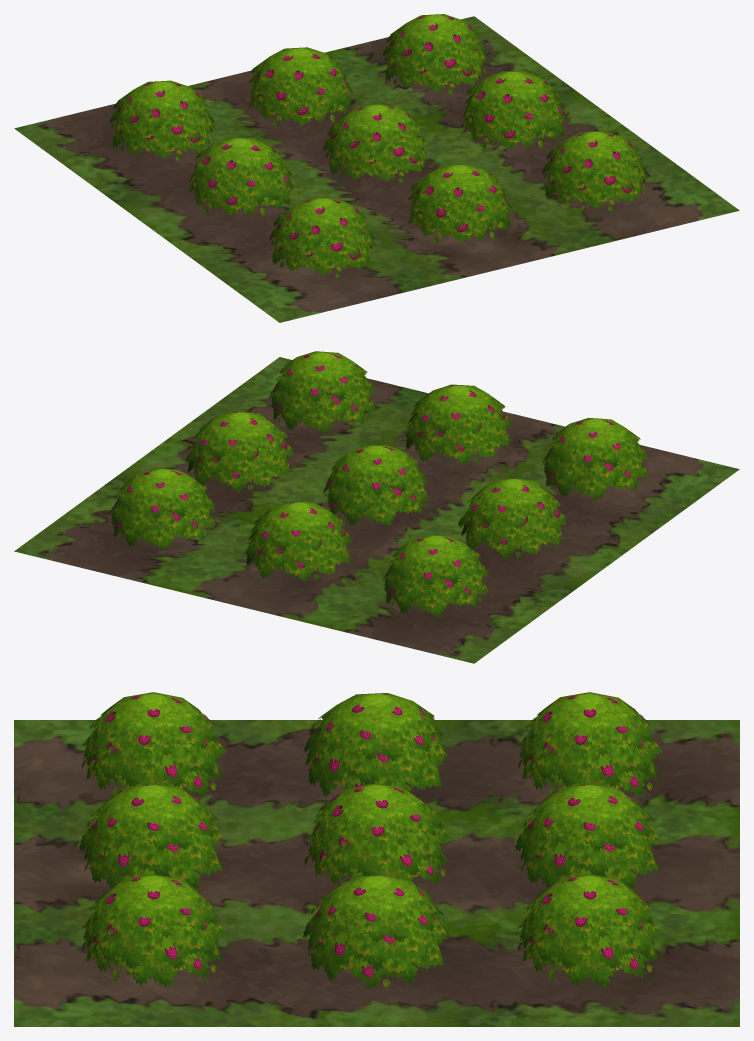
The model's file is rasp-berry-fields-painted.fbx.
3 renders of one model, top to bottom at view 1: azimuth 30°, elevation 25°; view 2: azimuth 150°, elevation 25°; view 3: azimuth 270°, elevation 25°, orthographic. The views are drawn at different scales.
Visible parts, largest first — view 1: ground_rasp_berryfields, BUSH_TREE1_4, BUSH_TREE1_4_3, BUSH_TREE1_4_9, BUSH_TREE1_4_7, BUSH_TREE1_4_5, BUSH_TREE1_4_4, BUSH_TREE1_4_2, BUSH_TREE1_4_6, BUSH_TREE1_4_8, BUSH_TREE1_2_6, BUSH_TREE1_2_4 (+16 smaller); view 2: ground_rasp_berryfields, BUSH_TREE1_4_5, BUSH_TREE1_4, BUSH_TREE1_4_3, BUSH_TREE1_4_7, BUSH_TREE1_4_9, BUSH_TREE1_4_2, BUSH_TREE1_4_8, BUSH_TREE1_4_4, BUSH_TREE1_4_6, BUSH_TREE1_2_5, BUSH_TREE1_2 (+16 smaller); view 3: ground_rasp_berryfields, BUSH_TREE1_4_6, BUSH_TREE1_4_4, BUSH_TREE1_4_2, BUSH_TREE1_4_8, BUSH_TREE1_4_9, BUSH_TREE1_4_3, BUSH_TREE1_4_7, BUSH_TREE1_4, BUSH_TREE1_4_5, BUSH_TREE1_2_5, BUSH_TREE1_2 (+16 smaller).
Part boxes in pixels (<box>): ground_rasp_berryfields: <box>14,16,739,322</box>; BUSH_TREE1_4: <box>546,131,643,179</box>; BUSH_TREE1_4_3: <box>273,197,370,246</box>; BUSH_TREE1_4_9: <box>113,80,210,129</box>; BUSH_TREE1_4_7: <box>386,14,483,62</box>; BUSH_TREE1_4_5: <box>327,103,425,152</box>; BUSH_TREE1_4_4: <box>466,71,559,118</box>; BUSH_TREE1_4_2: <box>410,164,504,209</box>; BUSH_TREE1_4_6: <box>195,137,287,185</box>; BUSH_TREE1_4_8: <box>250,47,344,92</box>; BUSH_TREE1_2_6: <box>188,160,294,205</box>; BUSH_TREE1_2_4: <box>462,92,567,138</box>; ground_rasp_berryfields: <box>14,357,739,663</box>; BUSH_TREE1_4_5: <box>330,445,424,496</box>; BUSH_TREE1_4: <box>275,351,367,402</box>; BUSH_TREE1_4_3: <box>548,418,640,469</box>; BUSH_TREE1_4_7: <box>116,468,207,519</box>; BUSH_TREE1_4_9: <box>389,534,480,585</box>; BUSH_TREE1_4_2: <box>410,384,505,434</box>; BUSH_TREE1_4_8: <box>250,501,345,551</box>; BUSH_TREE1_4_4: <box>193,411,287,461</box>; BUSH_TREE1_4_6: <box>467,477,560,528</box>; BUSH_TREE1_2_5: <box>322,466,426,513</box>; BUSH_TREE1_2: <box>269,375,374,418</box>; ground_rasp_berryfields: <box>14,720,739,1026</box>; BUSH_TREE1_4_6: <box>310,693,444,761</box>; BUSH_TREE1_4_4: <box>310,874,444,942</box>; BUSH_TREE1_4_2: <box>86,783,218,851</box>; BUSH_TREE1_4_8: <box>522,783,655,851</box>; BUSH_TREE1_4_9: <box>525,692,653,756</box>; BUSH_TREE1_4_3: <box>89,692,217,756</box>; BUSH_TREE1_4_7: <box>526,874,653,938</box>; BUSH_TREE1_4: <box>89,874,217,938</box>; BUSH_TREE1_4_5: <box>313,783,443,848</box>; BUSH_TREE1_2_5: <box>305,822,450,876</box>; BUSH_TREE1_2: <box>81,909,227,969</box>.
Bounding box in the file's own units: 500 × 66.57 × 500.
2 materials, 2 textured.
